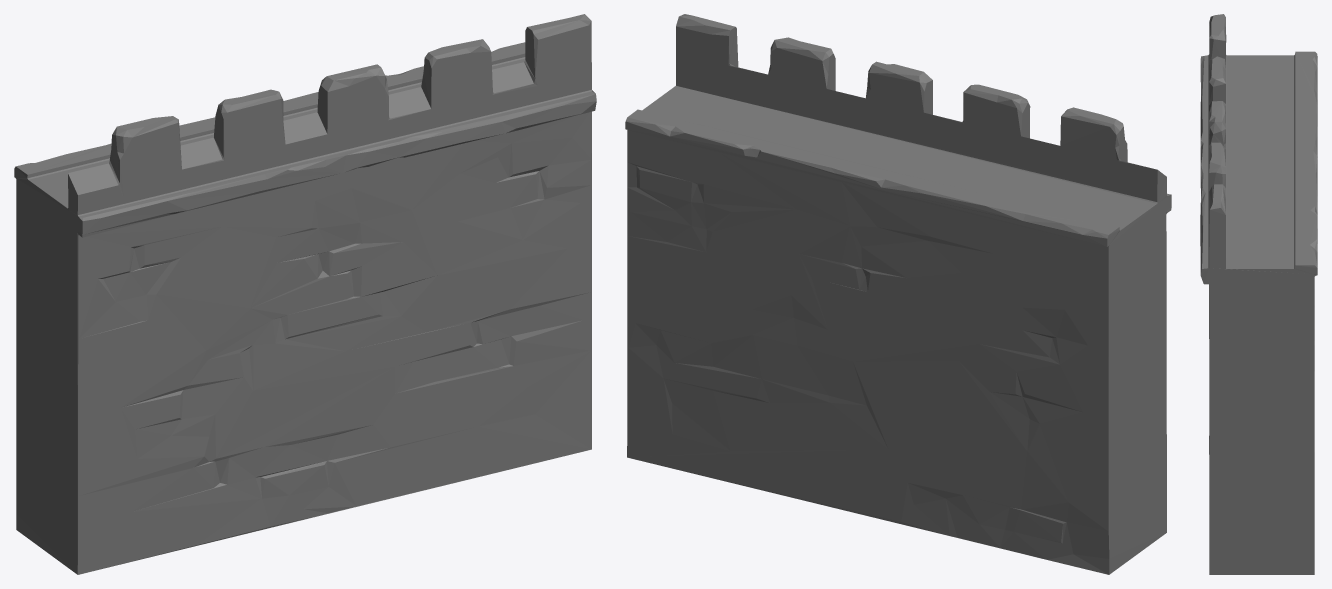
The model's file is castle_battlement_a2.FBX.
3 views of the same model, side by side, from view 1: azimuth 30°, elevation 25°; view 2: azimuth 150°, elevation 25°; view 3: azimuth 270°, elevation 25° (orthographic). The views are drawn at different scales.
Parts seen in each view (by area): view 1: castle_battlement_a2; view 2: castle_battlement_a2; view 3: castle_battlement_a2.
Part boxes in pixels (<box>): castle_battlement_a2: <box>14,14,596,574</box>; castle_battlement_a2: <box>625,14,1171,574</box>; castle_battlement_a2: <box>1200,14,1317,574</box>.
Bounding box in the file's own units: 12 × 9.6 × 2.79.
